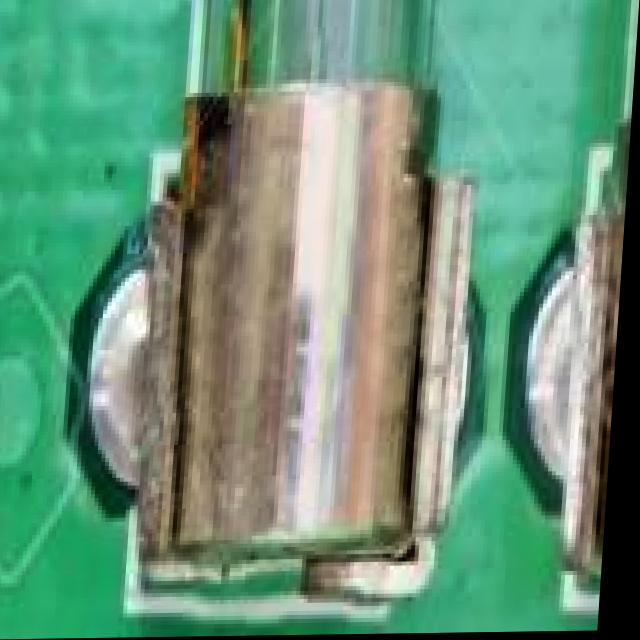fuse: (147, 0, 464, 554), (581, 0, 640, 593)
